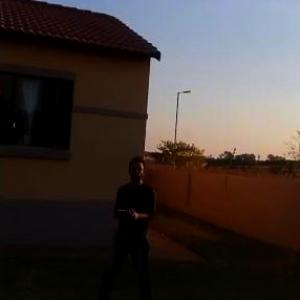follow: (88, 153, 164, 299)
